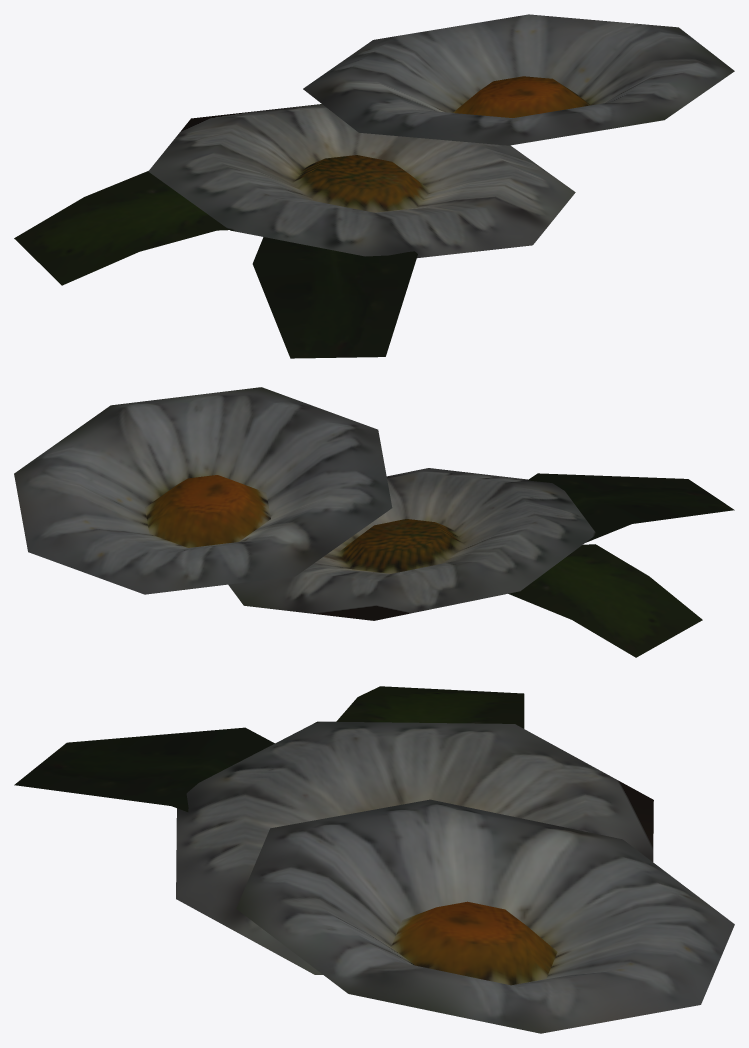
File: FlowerChamomilePart.glb
3 views of the same model, one above another, from view 1: azimuth 30°, elevation 25°; view 2: azimuth 150°, elevation 25°; view 3: azimuth 270°, elevation 25° (orthographic). The views are drawn at different scales.
Visible parts, largest first — view 1: Flower.003; view 2: Flower.003; view 3: Flower.003.
Boxes of the visible parts, box(x1,y1,x2,y2) form: Flower.003: box(14, 14, 734, 358); Flower.003: box(14, 387, 734, 657); Flower.003: box(14, 686, 734, 1033).
Size of the model in its own units: 0.9518 by 0.1454 by 0.7296.
1 material, 1 textured.
